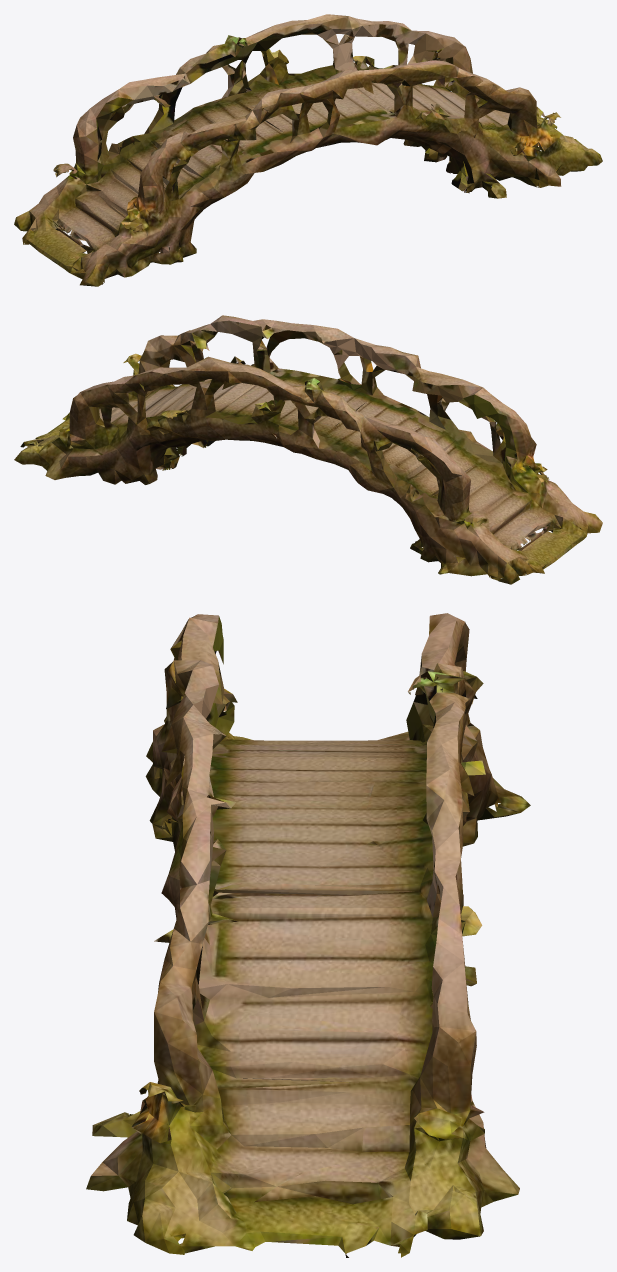
The model's file is fairy_root_bridge_1117.glb.
3 views of the same model, one above another, from view 1: azimuth 30°, elevation 25°; view 2: azimuth 150°, elevation 25°; view 3: azimuth 270°, elevation 25° (orthographic). The views are drawn at different scales.
Visible parts, largest first — view 1: world; view 2: world; view 3: world.
Part boxes in pixels (left/top/right/bottom): world: left=14, top=14, right=602, bottom=286; world: left=14, top=315, right=602, bottom=584; world: left=86, top=613, right=530, bottom=1257.
Size of the model in its own units: 3.67 by 1 by 1.35.
Materials: 1 (1 with a texture image).
